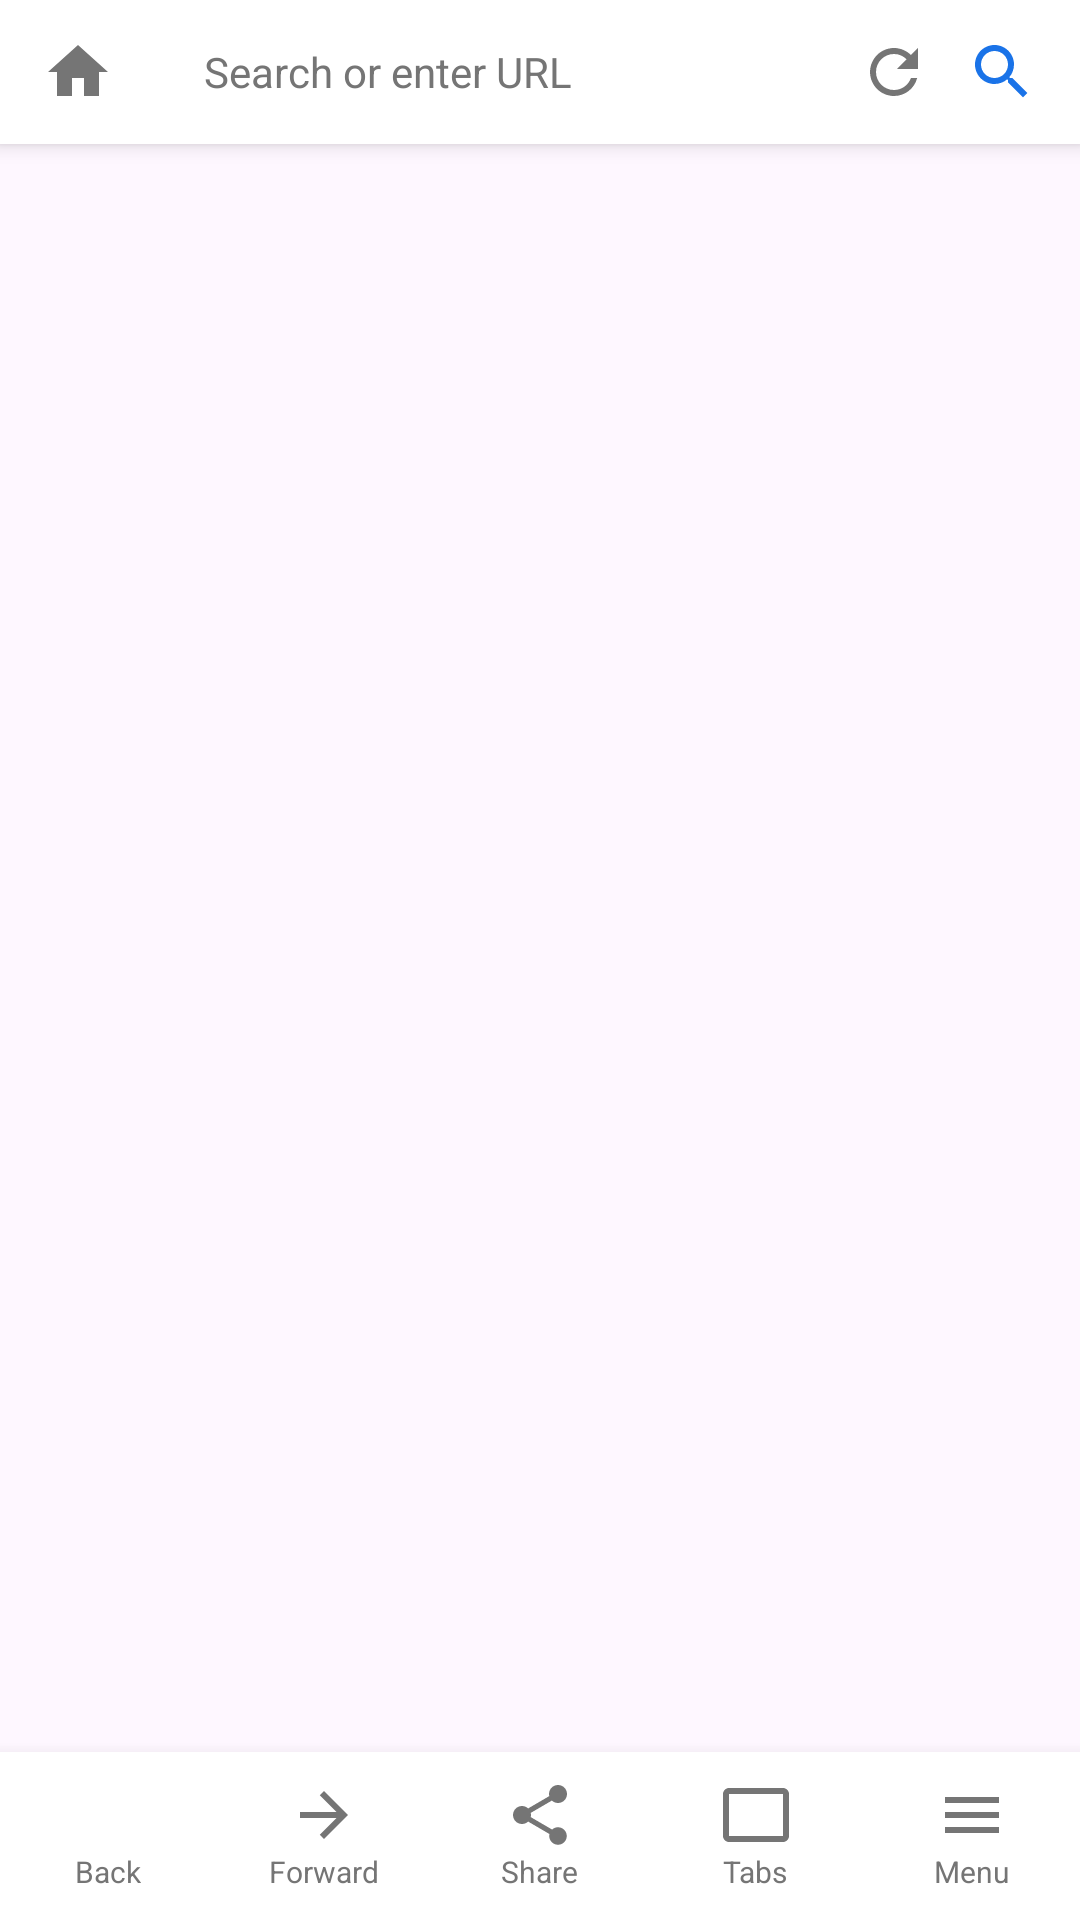

Where icons sit on this 1080*1920 app screen, as (x1, y1, x2, y2):
Go: (975, 45, 1027, 97)
Home: (48, 45, 108, 96)
Refresh: (870, 48, 918, 96)
